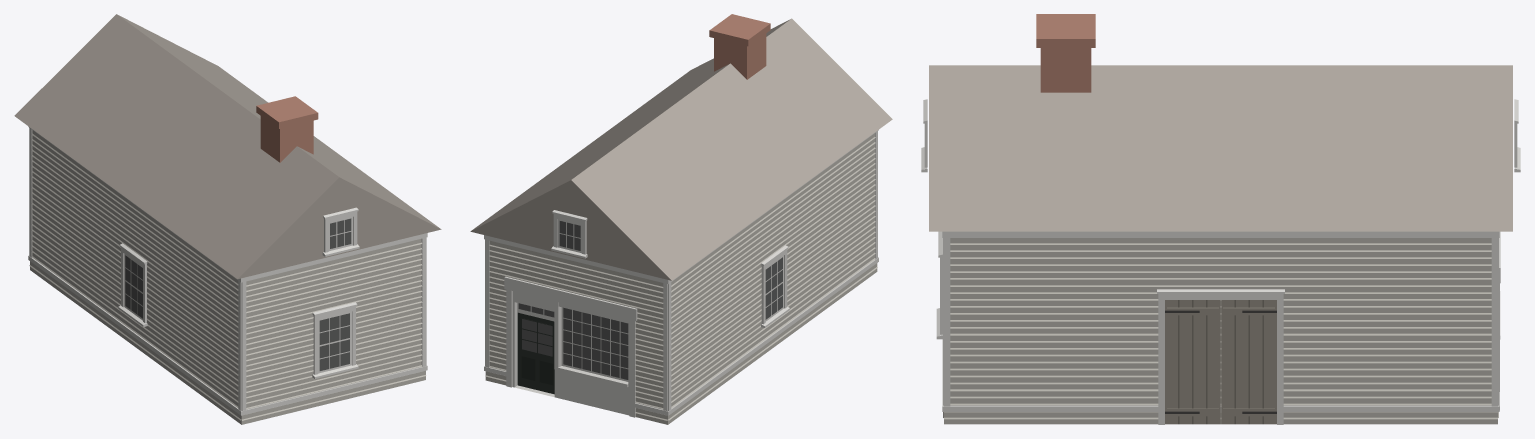
Rendered from recon_1835_gifford_c2_016__inferred_1835.glb.
The picture shows the model from 3 angles, left to right: view 1: azimuth 30°, elevation 25°; view 2: azimuth 150°, elevation 25°; view 3: azimuth 270°, elevation 25°; orthographic projection. The views are drawn at different scales.
Parts seen in each view (by area): view 1: recon_1835_gifford_c2_016__inferred_1835; view 2: recon_1835_gifford_c2_016__inferred_1835; view 3: recon_1835_gifford_c2_016__inferred_1835.
Boxes of the visible parts, bbox=[...] form: recon_1835_gifford_c2_016__inferred_1835: bbox=[14, 14, 441, 424]; recon_1835_gifford_c2_016__inferred_1835: bbox=[470, 14, 892, 424]; recon_1835_gifford_c2_016__inferred_1835: bbox=[921, 14, 1520, 424].
Size of the model in its own units: 5.1 by 6.18 by 9.9.
